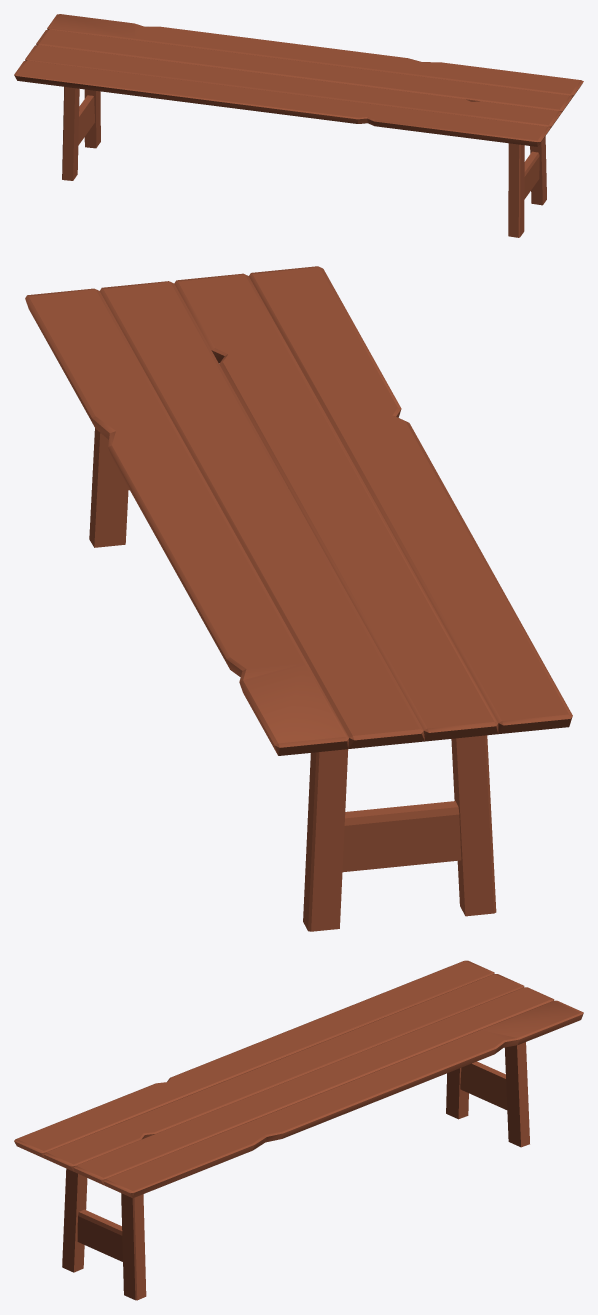
File: table_2.fbx
The picture shows the model from 3 angles, top to bottom: view 1: azimuth 30°, elevation 25°; view 2: azimuth 150°, elevation 25°; view 3: azimuth 270°, elevation 25°; orthographic projection. The views are drawn at different scales.
Parts seen in each view (by area): view 1: table-2; view 2: table-2; view 3: table-2.
Part boxes in pixels (x1,y1,x2,y2): table-2: [14, 14, 583, 237]; table-2: [25, 266, 572, 931]; table-2: [14, 960, 583, 1300].
Size of the model in its own units: 8.64 by 2.2 by 8.95.
